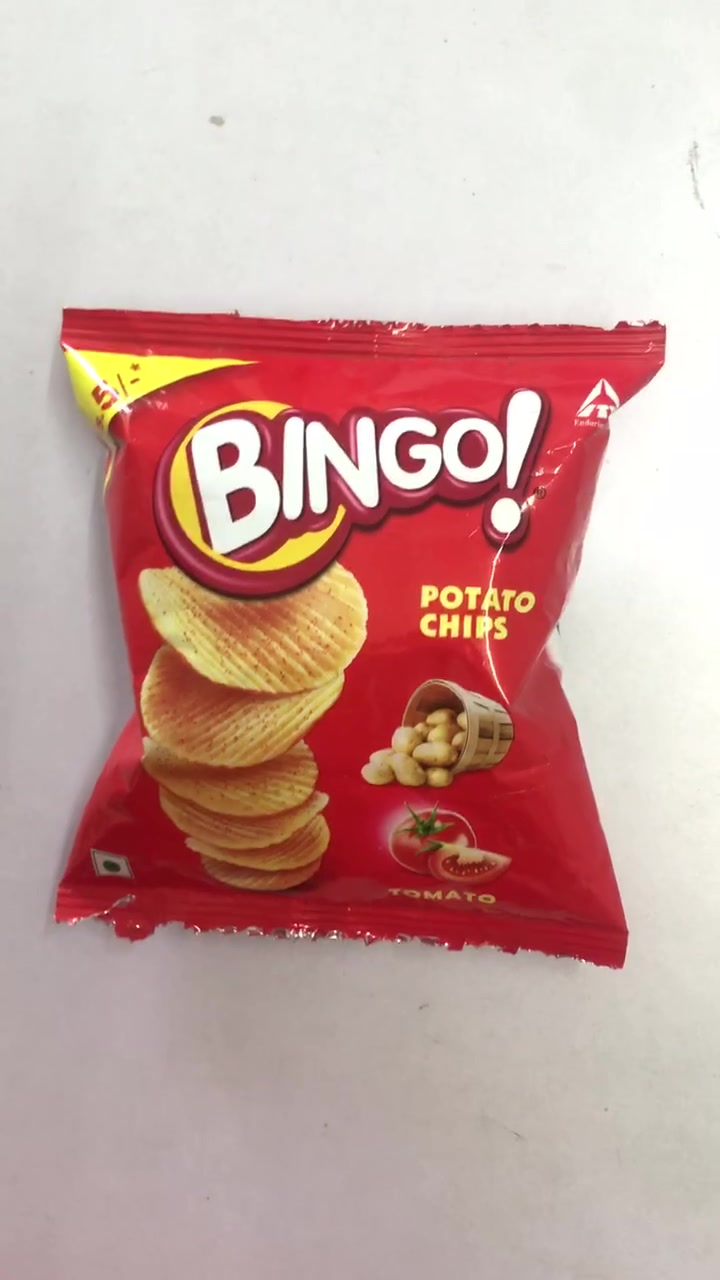Bingo: (69, 310, 644, 955)
